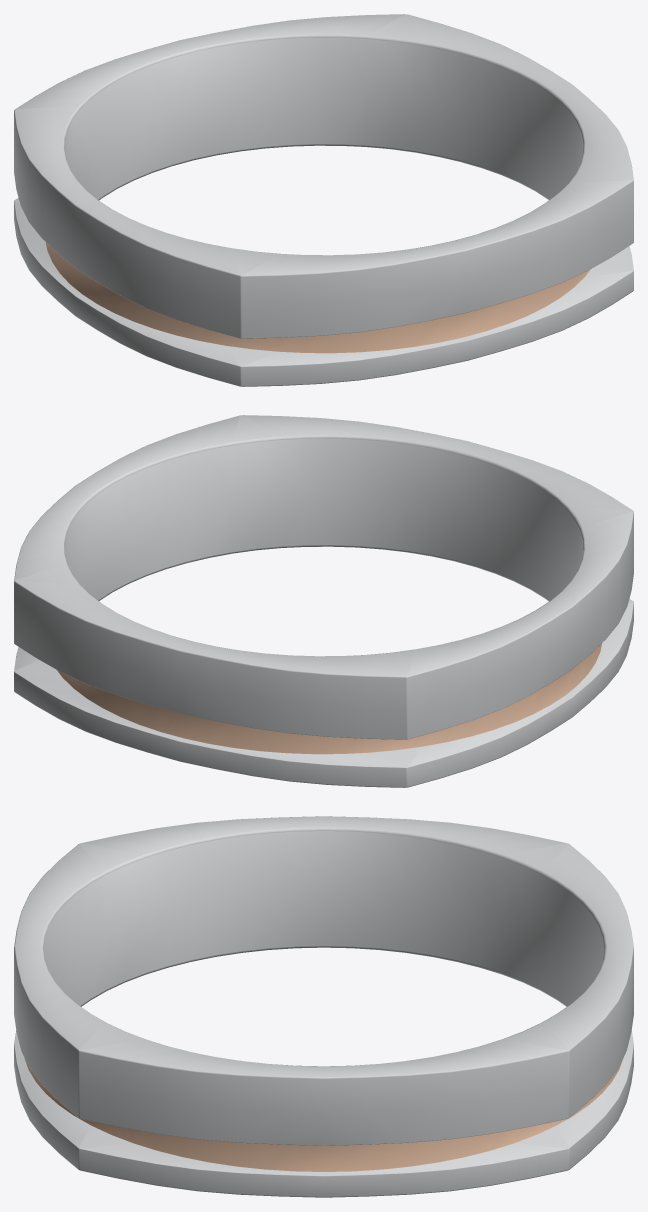
3 views of the same model, one above another, from view 1: azimuth 30°, elevation 25°; view 2: azimuth 150°, elevation 25°; view 3: azimuth 270°, elevation 25° (orthographic). The views are drawn at different scales.
Parts seen in each view (by area): view 1: Base_Metal, Engraving_Metal, Finishing_Metal; view 2: Base_Metal, Engraving_Metal, Finishing_Metal; view 3: Base_Metal, Engraving_Metal, Finishing_Metal.
Boxes of the visible parts, x1,y1,x2,y2 form: Base_Metal: (14,14,633,386); Engraving_Metal: (64,37,583,199); Finishing_Metal: (46,242,590,353); Base_Metal: (14,415,633,787); Engraving_Metal: (64,438,583,600); Finishing_Metal: (57,643,601,754); Base_Metal: (14,816,633,1197); Engraving_Metal: (43,831,604,1005); Finishing_Metal: (25,1059,622,1171).
Size of the model in its own units: 2.1 by 0.45 by 2.1.
